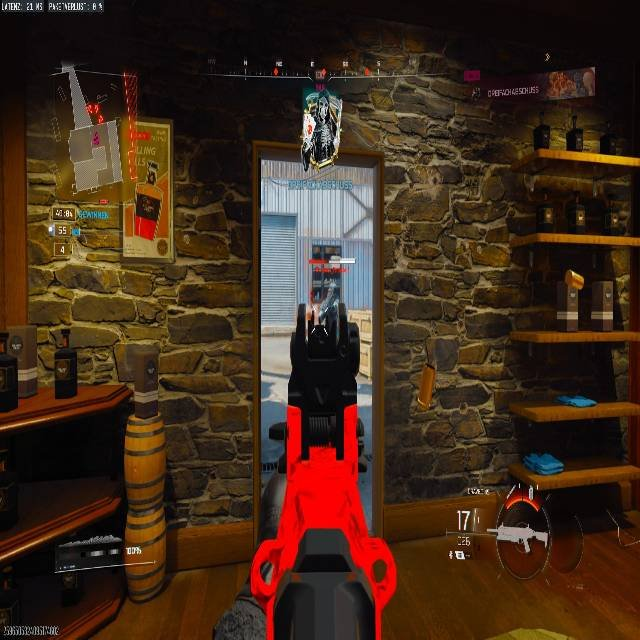player: (284, 277, 362, 466)
